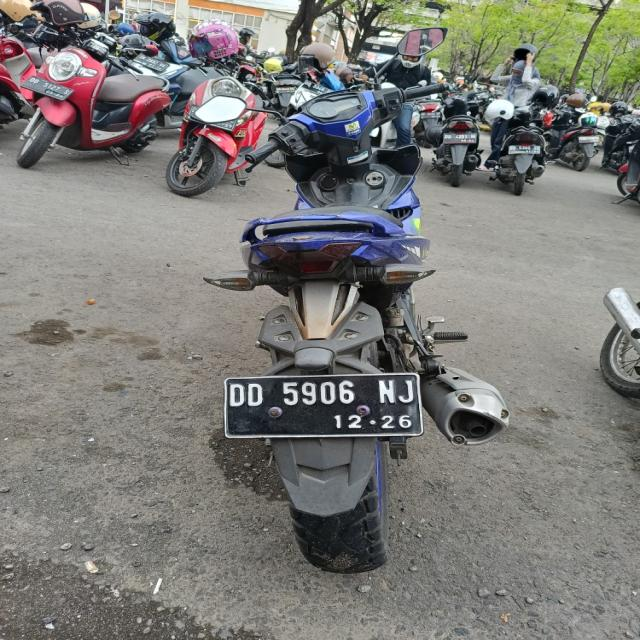plates: (220, 372, 424, 442)
